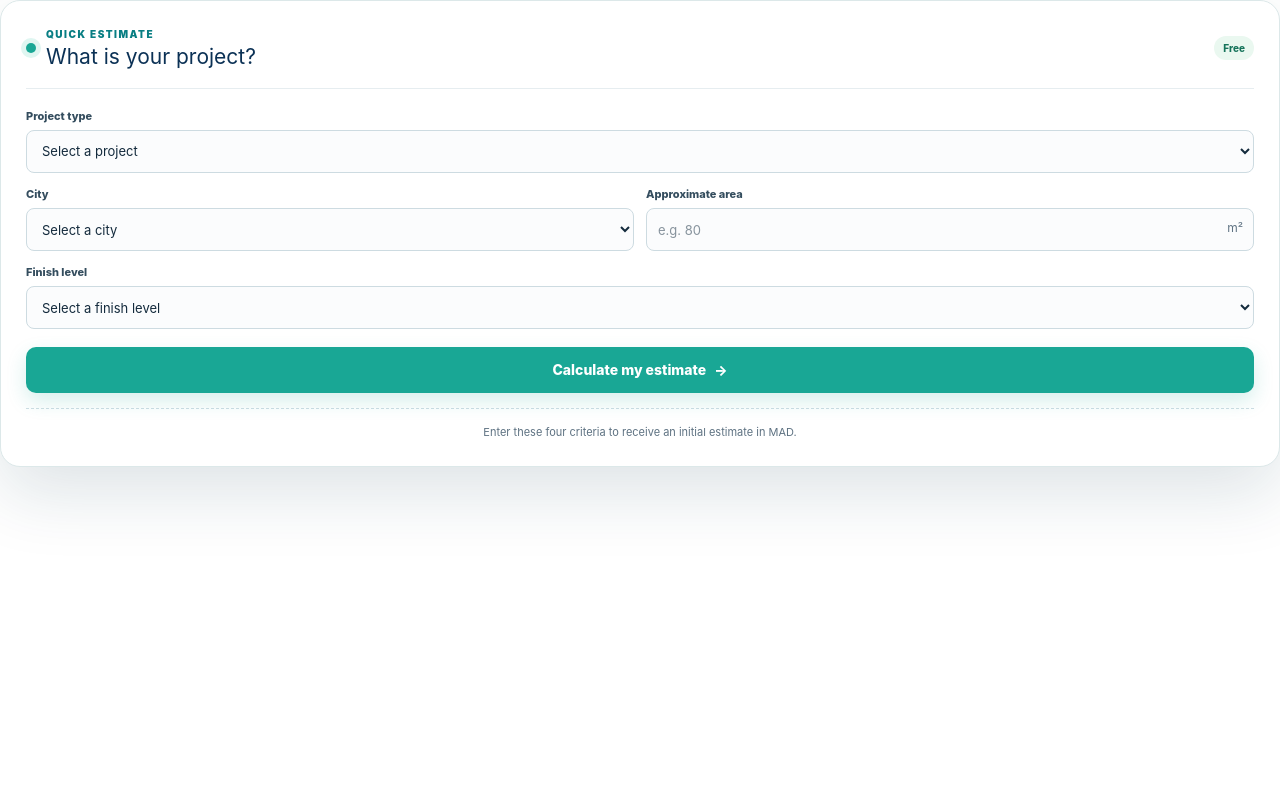
Scenario: QuickEstimateForm › shows three values, the warning and a localized quote prefill action
The width and height of the screenshot is (1280, 800).
Select "Full renovation" in the dropdown labelled "Project type" at (640, 151), box [26,130,1254,173]
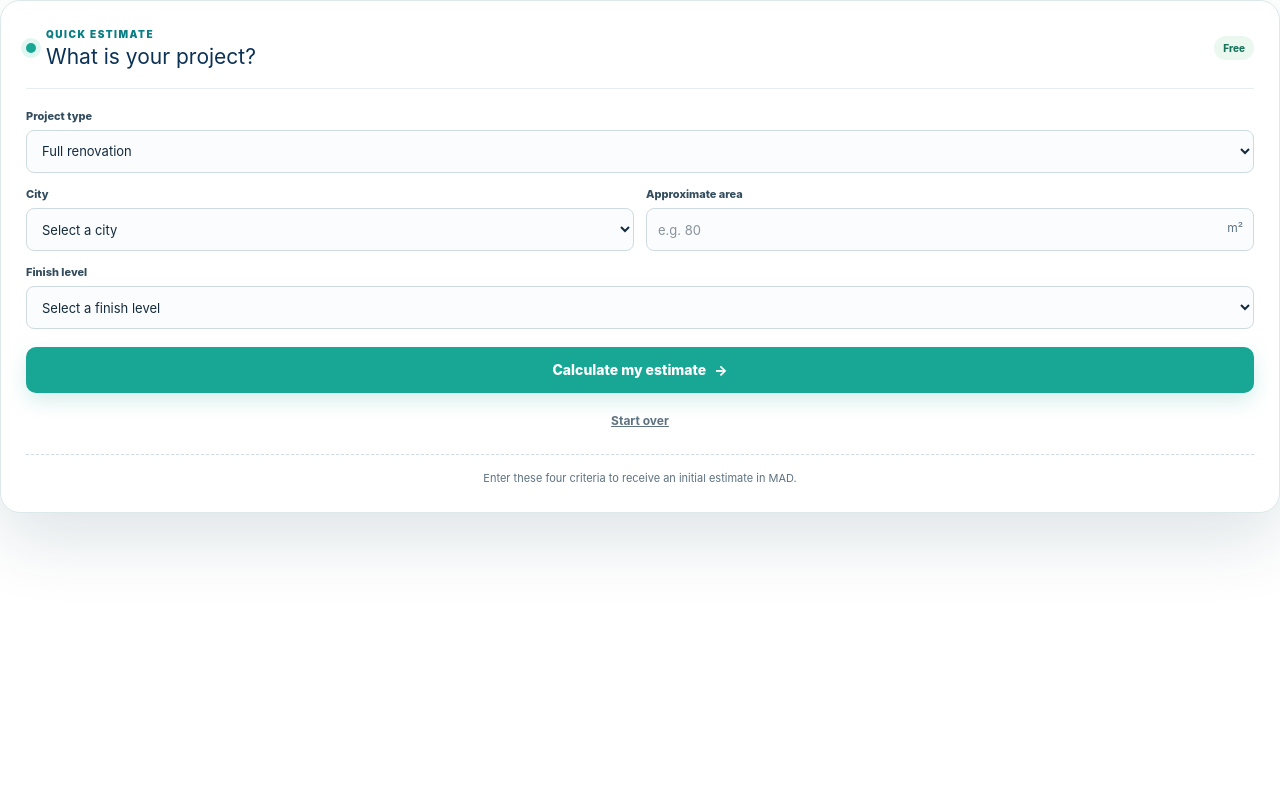
Select "Casablanca" in the dropdown labelled "City" at (330, 230), box [26,208,634,251]
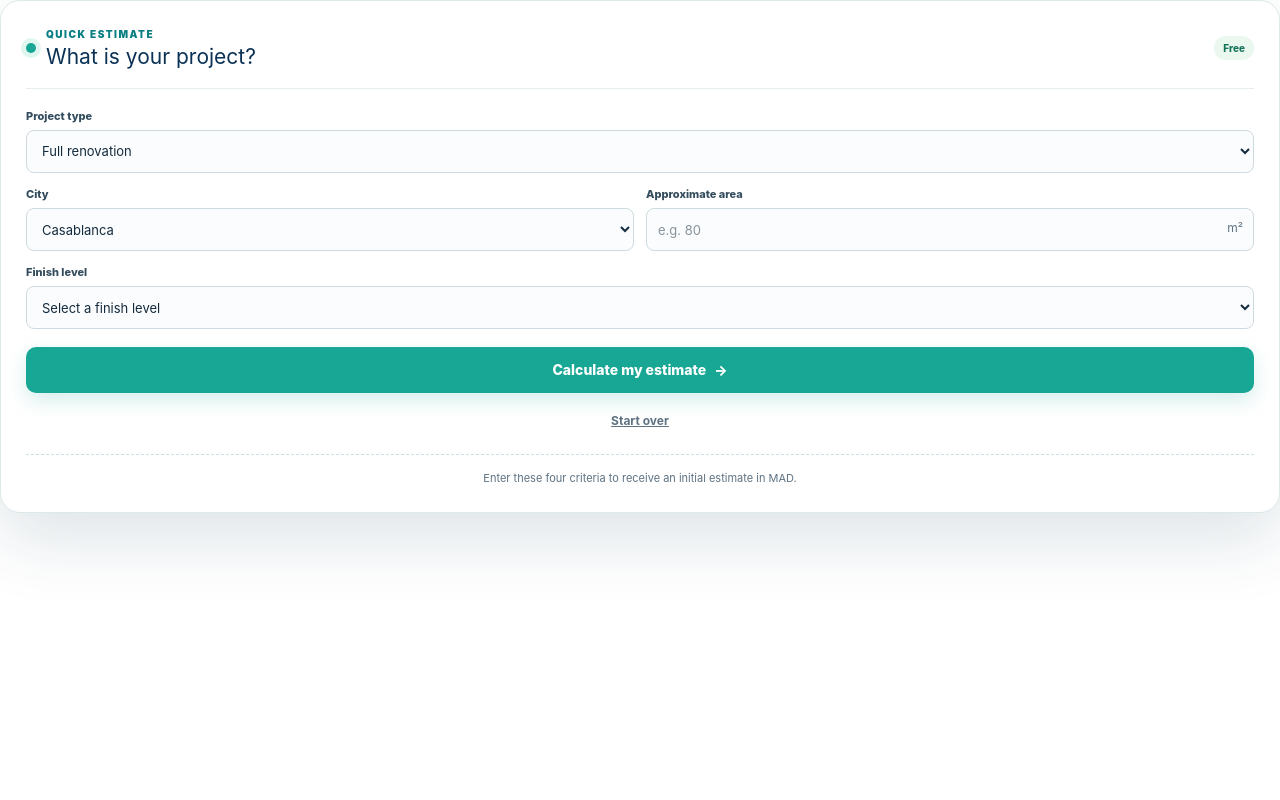
Type "80" into the number field labelled "Approximate area" at (950, 230), box [646,208,1254,251]
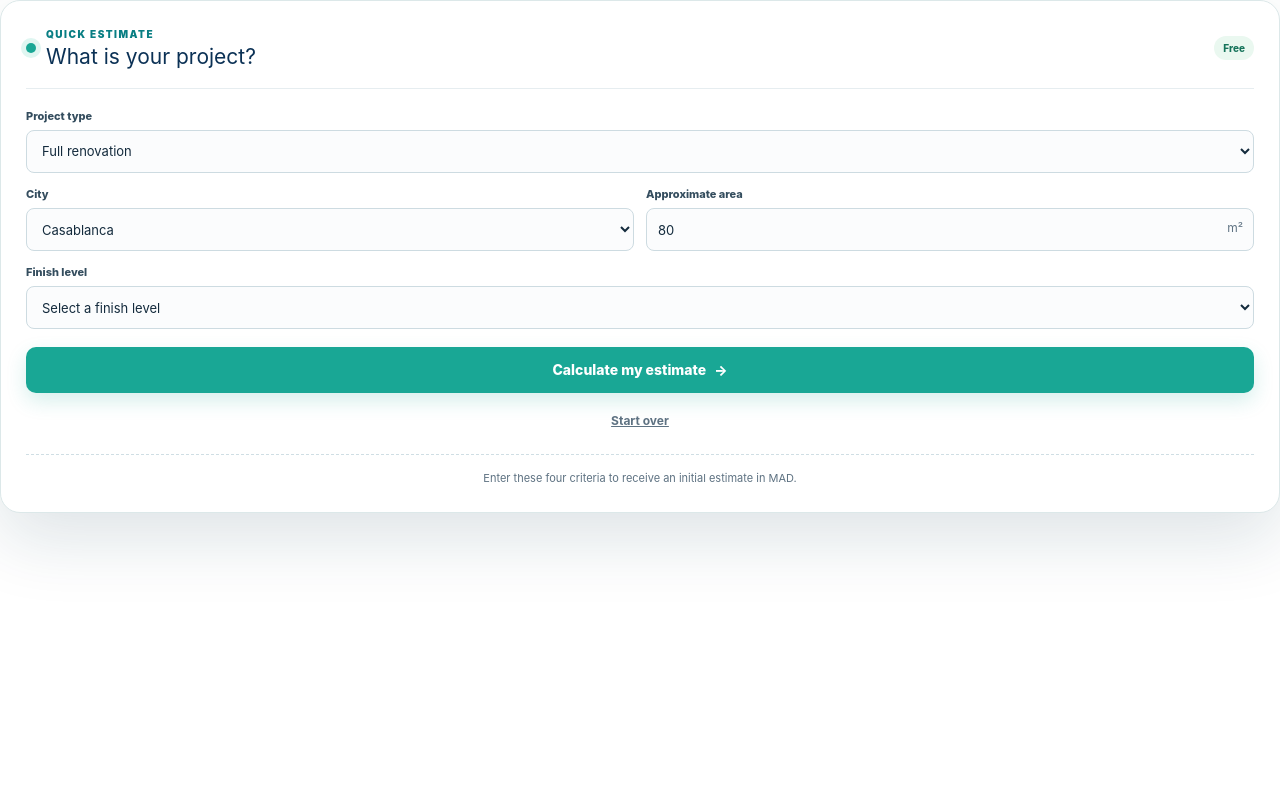
Select "Standard" in the dropdown labelled "Finish level" at (640, 308), box [26,286,1254,329]
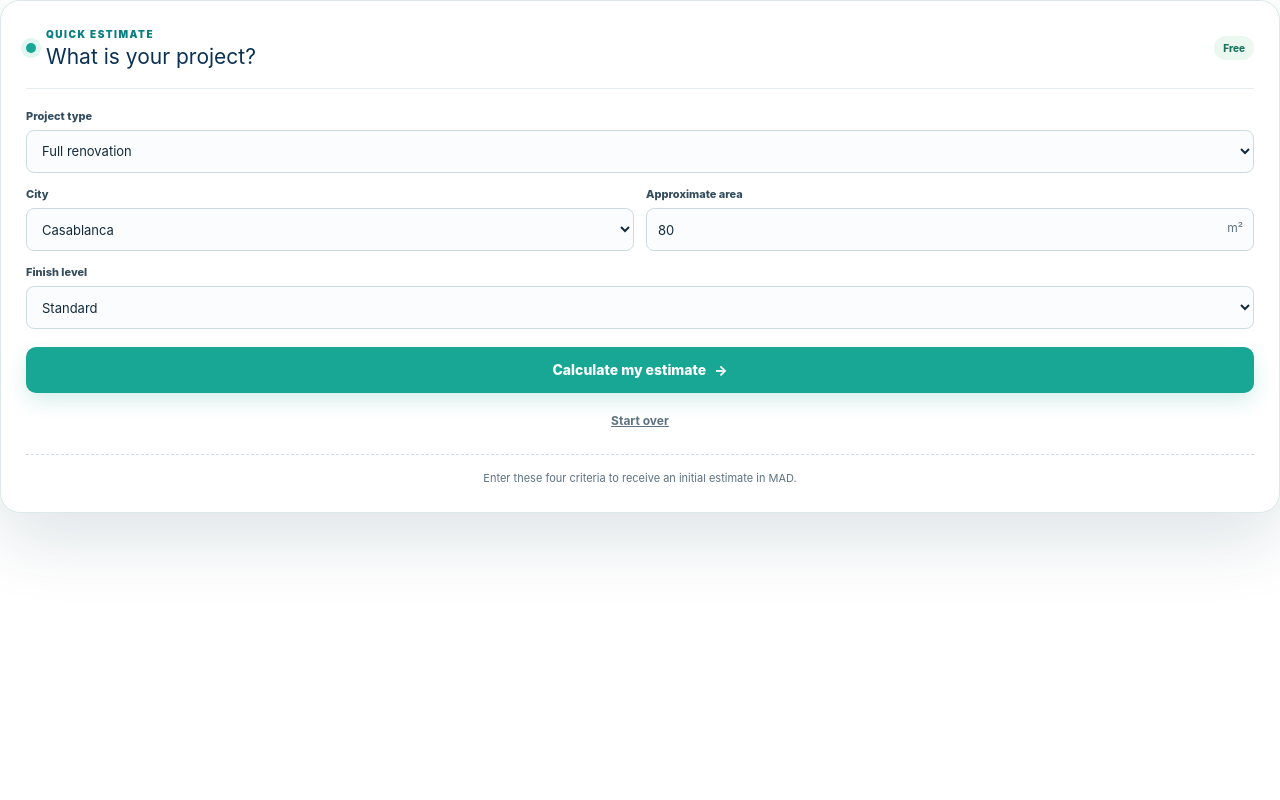
Click the button "Calculate my estimate →" at (640, 370), box [26,347,1254,393]
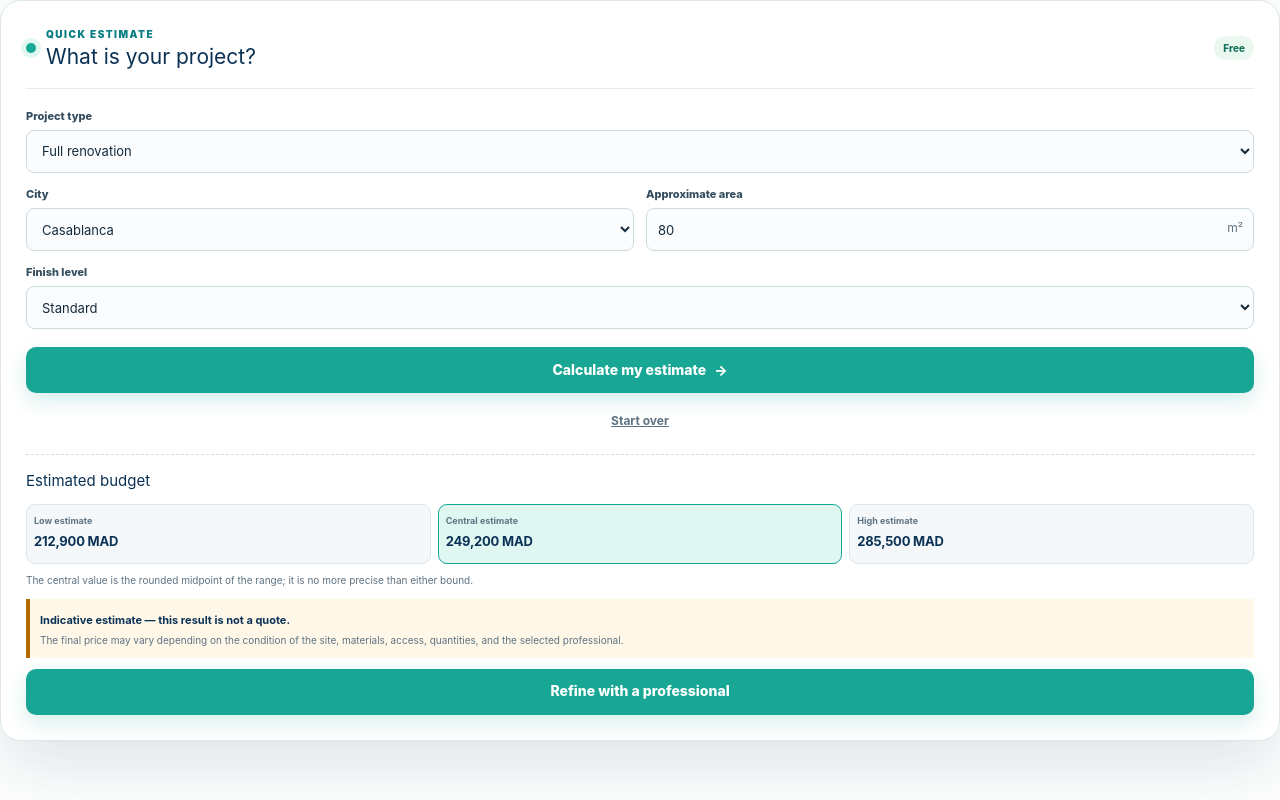
Check: the text "Low estimate" is shown, box [34,515,92,526]
Check: the text "Central estimate" is shown, box [446,515,518,526]
Check: the text "High estimate" is shown, box [857,515,918,526]
